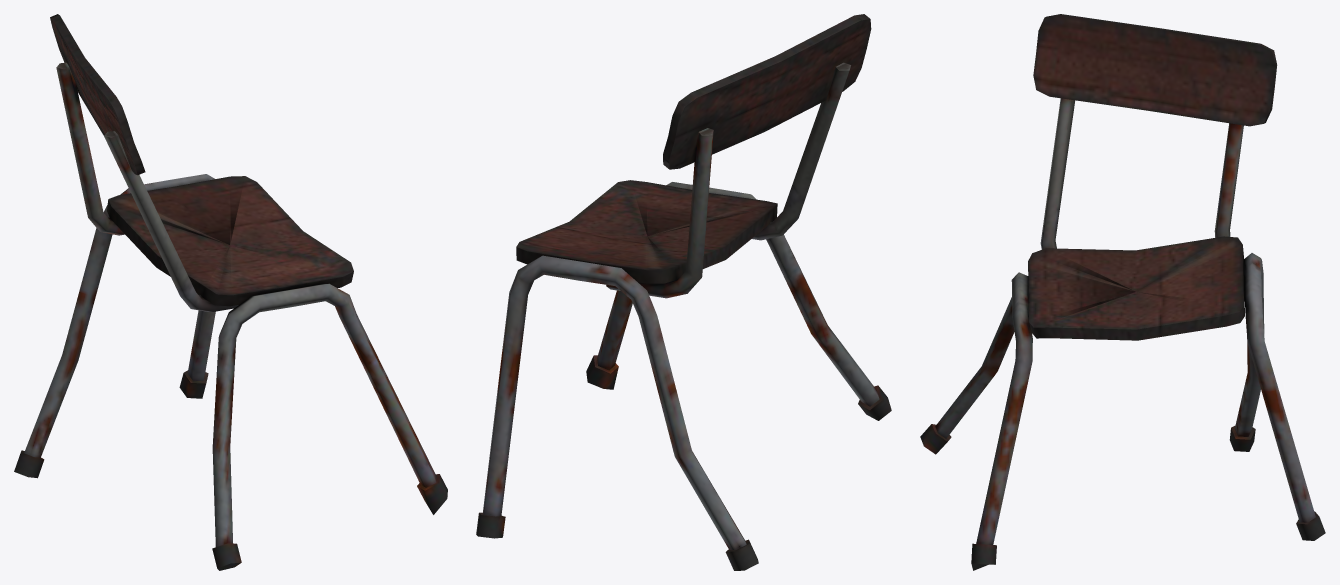
Rendered from L_ChairBroken.FBX.
The picture shows the model from 3 angles, left to right: view 1: azimuth 30°, elevation 25°; view 2: azimuth 150°, elevation 25°; view 3: azimuth 270°, elevation 25°; orthographic projection. The views are drawn at different scales.
Visible parts, largest first — view 1: L_ChairBroken; view 2: L_ChairBroken; view 3: L_ChairBroken.
Part boxes in pixels (x1,y1,x2,y2): L_ChairBroken: (14, 14, 447, 570); L_ChairBroken: (476, 14, 891, 570); L_ChairBroken: (920, 14, 1325, 570).
Size of the model in its own units: 69.61 by 100 by 85.5.
